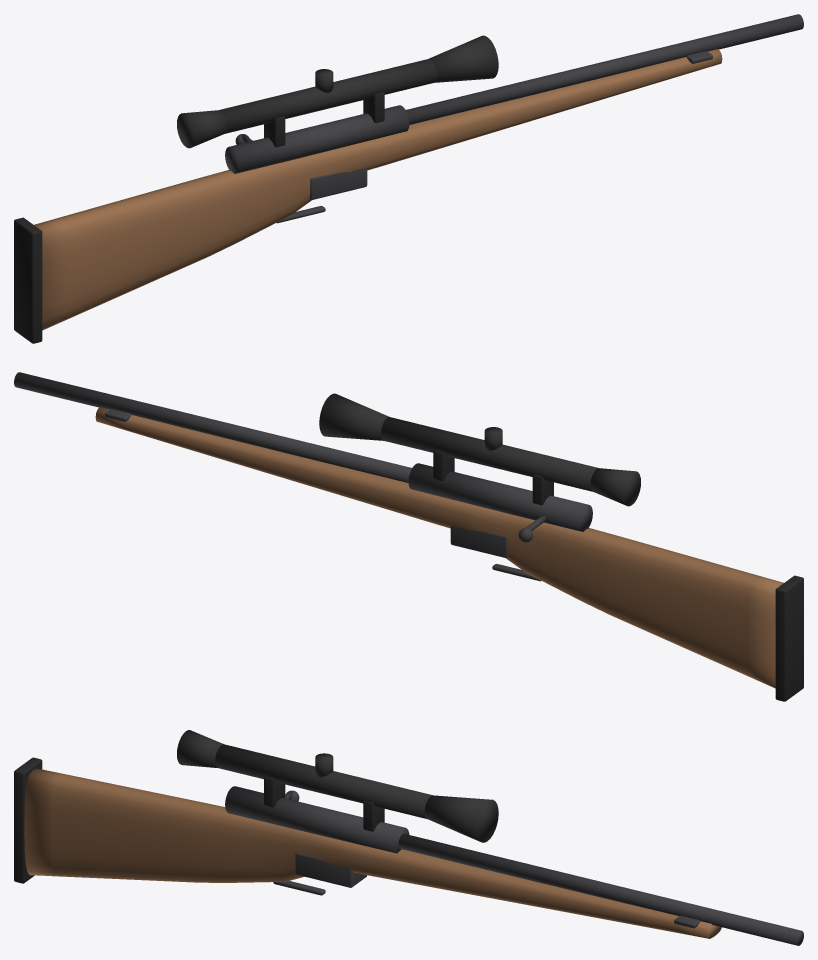
Rendered from SM_Rem700.glb.
The picture shows the model from 3 angles, top to bottom: view 1: azimuth 30°, elevation 25°; view 2: azimuth 150°, elevation 25°; view 3: azimuth 330°, elevation 25°; orthographic projection.
Parts seen in each view (by area): view 1: SM_Rem700; view 2: SM_Rem700; view 3: SM_Rem700.
Boxes of the visible parts, left/top/right/bottom form: SM_Rem700: left=14, top=14, right=803, bottom=343; SM_Rem700: left=14, top=372, right=803, bottom=701; SM_Rem700: left=14, top=730, right=803, bottom=945.
Bounding box in the file's own units: 1.09 × 0.2575 × 0.096.
